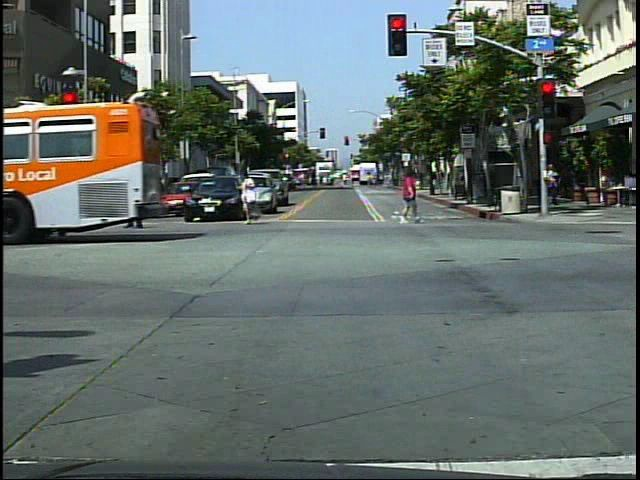person: (237, 166, 268, 230), (124, 170, 153, 236), (396, 166, 425, 230), (546, 162, 568, 213)
